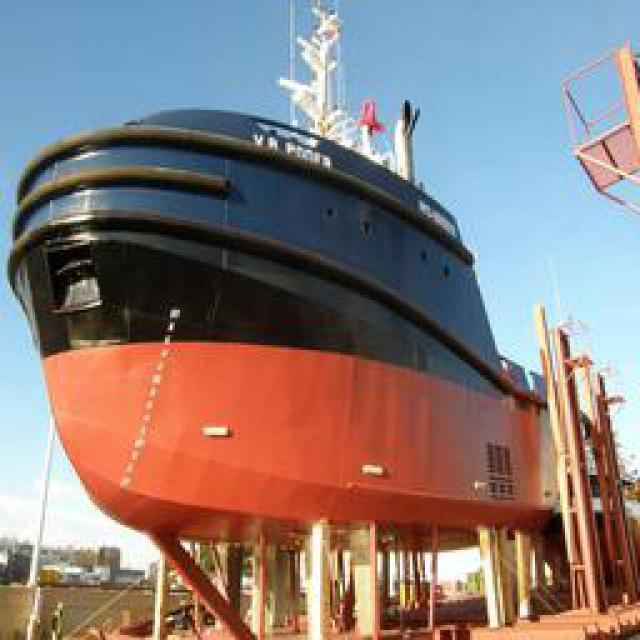Ship: (4, 1, 599, 553)
